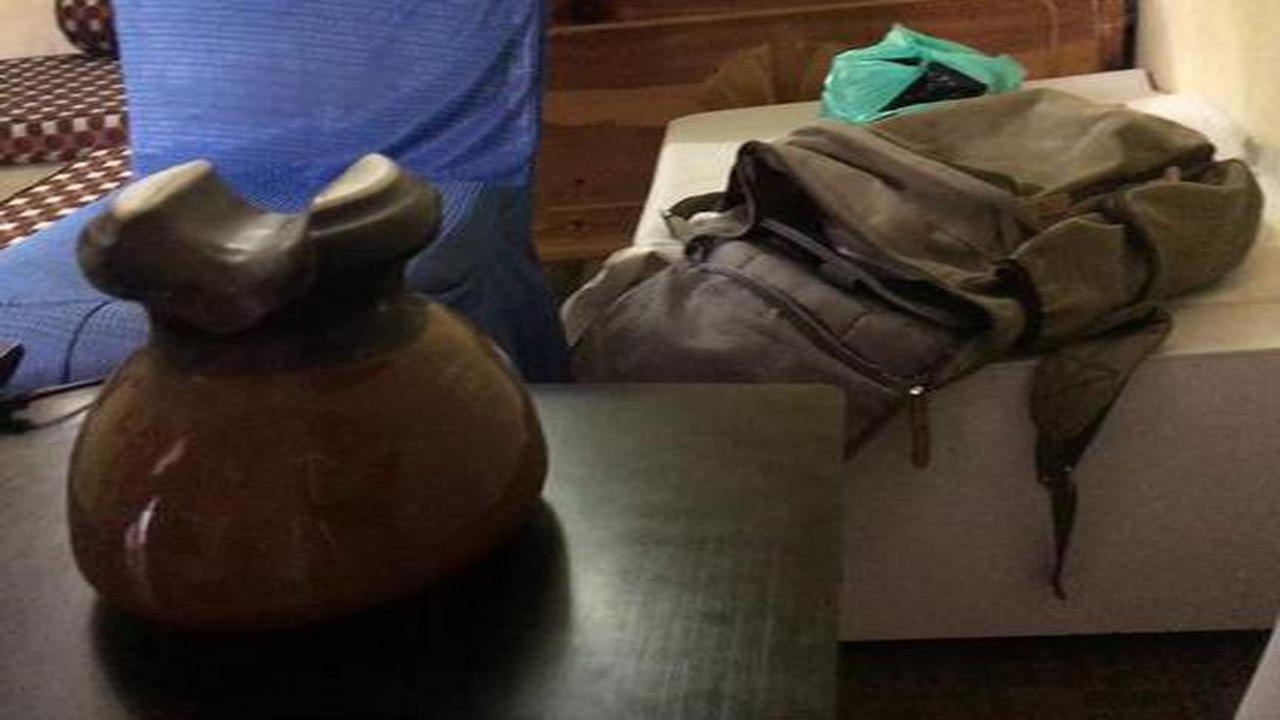insulator_pin: (50, 135, 573, 660)
